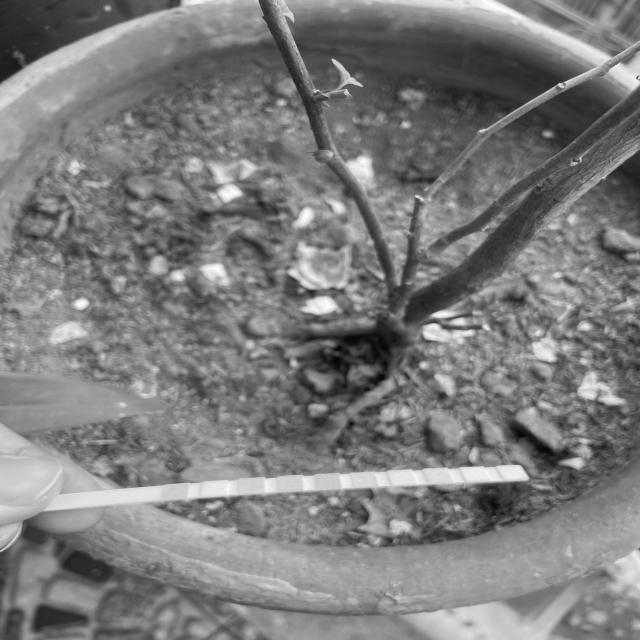Bilirubin: (204, 482, 226, 496)
Blood: (316, 475, 339, 488)
Glucose: (163, 486, 186, 499)
Ketone: (240, 479, 263, 492)
Leukocytes: (502, 466, 523, 479)
Nitrite: (464, 467, 485, 480)
Protein: (390, 471, 413, 484)
SpGravity: (279, 476, 302, 490)
Urobilinogen: (427, 469, 447, 482)
background: (0, 0, 640, 640)
pH: (352, 472, 376, 486)
strip: (61, 465, 529, 510)
